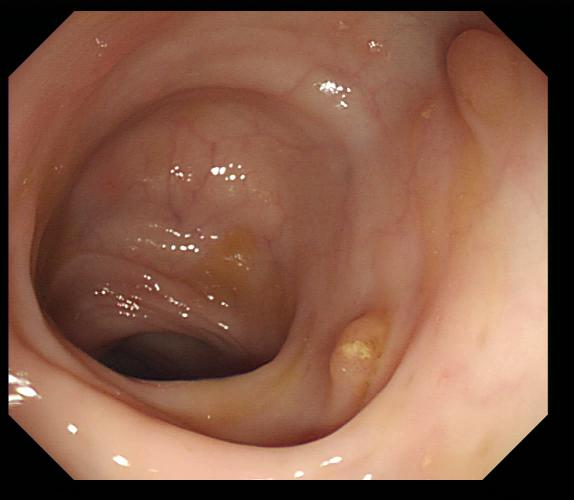polyp: (438, 19, 527, 162), (324, 309, 393, 407), (416, 97, 441, 131), (361, 36, 384, 59), (331, 12, 352, 35)
